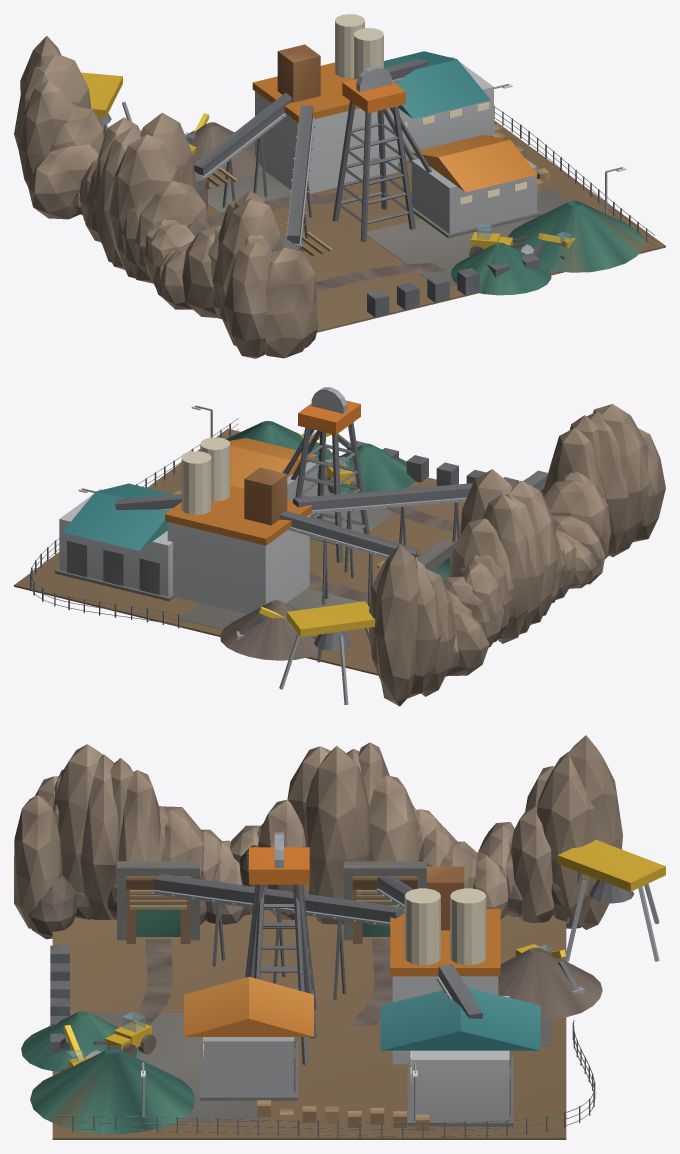
The model's file is Mine_P2.fbx.
3 views of the same model, one above another, from view 1: azimuth 30°, elevation 25°; view 2: azimuth 150°, elevation 25°; view 3: azimuth 270°, elevation 25° (orthographic). The views are drawn at different scales.
Parts seen in each view (by area): view 1: Mine.Cliff, Mine.Apron, Mine.Plant, Mine.Winder, Mine.Headframe, Mine.Crusher, Mine.Spoil0, Mine.Clutter, Mine.Spoil1, Mine.Conv1, Mine.Conv0, Mine.Spoil2 (+7 smaller); view 2: Mine.Cliff, Mine.Plant, Mine.Apron, Mine.Crusher, Mine.Headframe, Mine.Conv0, Mine.Spoil2, Mine.LoadGantry, Mine.Winder, Mine.Conv1, Mine.Spoil1, Mine.Fence (+7 smaller); view 3: Mine.Cliff, Mine.Apron, Mine.Crusher, Mine.Winder, Mine.Plant, Mine.Spoil0, Mine.Headframe, Mine.Conv0, Mine.Adit0, Mine.LoadGantry, Mine.Spoil2, Mine.Clutter (+9 smaller).
Boxes of the visible parts, x1=… form: Mine.Cliff: x1=14, y1=36, x2=318, y2=358; Mine.Apron: x1=208, y1=120, x2=665, y2=332; Mine.Plant: x1=252, y1=14, x2=397, y2=194; Mine.Winder: x1=411, y1=135, x2=541, y2=238; Mine.Headframe: x1=332, y1=65, x2=432, y2=241; Mine.Crusher: x1=384, y1=51, x2=493, y2=165; Mine.Spoil0: x1=507, y1=200, x2=644, y2=272; Mine.Clutter: x1=367, y1=124, x2=549, y2=317; Mine.Spoil1: x1=451, y1=242, x2=551, y2=295; Mine.Conv1: x1=194, y1=93, x2=292, y2=207; Mine.Conv0: x1=285, y1=105, x2=315, y2=249; Mine.Spoil2: x1=185, y1=122, x2=262, y2=182; Mine.Cliff: x1=368, y1=404, x2=665, y2=706; Mine.Plant: x1=165, y1=437, x2=311, y2=613; Mine.Apron: x1=14, y1=428, x2=464, y2=675; Mine.Crusher: x1=55, y1=483, x2=175, y2=601; Mine.Headframe: x1=283, y1=387, x2=369, y2=562; Mine.Conv0: x1=292, y1=480, x2=512, y2=578; Mine.Spoil2: x1=220, y1=600, x2=322, y2=660; Mine.LoadGantry: x1=279, y1=601, x2=375, y2=704; Mine.Winder: x1=229, y1=438, x2=317, y2=516; Mine.Conv1: x1=279, y1=511, x2=418, y2=606; Mine.Spoil1: x1=327, y1=443, x2=414, y2=493; Mine.Fence: x1=30, y1=418, x2=238, y2=628; Mine.Cliff: x1=14, y1=735, x2=622, y2=939; Mine.Apron: x1=52, y1=910, x2=566, y2=1139; Mine.Crusher: x1=380, y1=987, x2=540, y2=1126; Mine.Winder: x1=184, y1=976, x2=313, y2=1100; Mine.Plant: x1=390, y1=866, x2=500, y2=1064; Mine.Spoil0: x1=30, y1=1048, x2=195, y2=1134; Mine.Headframe: x1=245, y1=832, x2=316, y2=1065; Mine.Conv0: x1=151, y1=874, x2=404, y2=1000; Mine.Adit0: x1=117, y1=861, x2=199, y2=943; Mine.LoadGantry: x1=557, y1=840, x2=665, y2=961; Mine.Spoil2: x1=498, y1=947, x2=602, y2=1018; Mine.Clutter: x1=50, y1=945, x2=429, y2=1131.
Size of the model in its own units: 8206 by 3118 by 8629.
